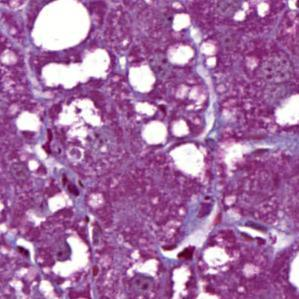steatosis: (28, 0, 94, 50)
